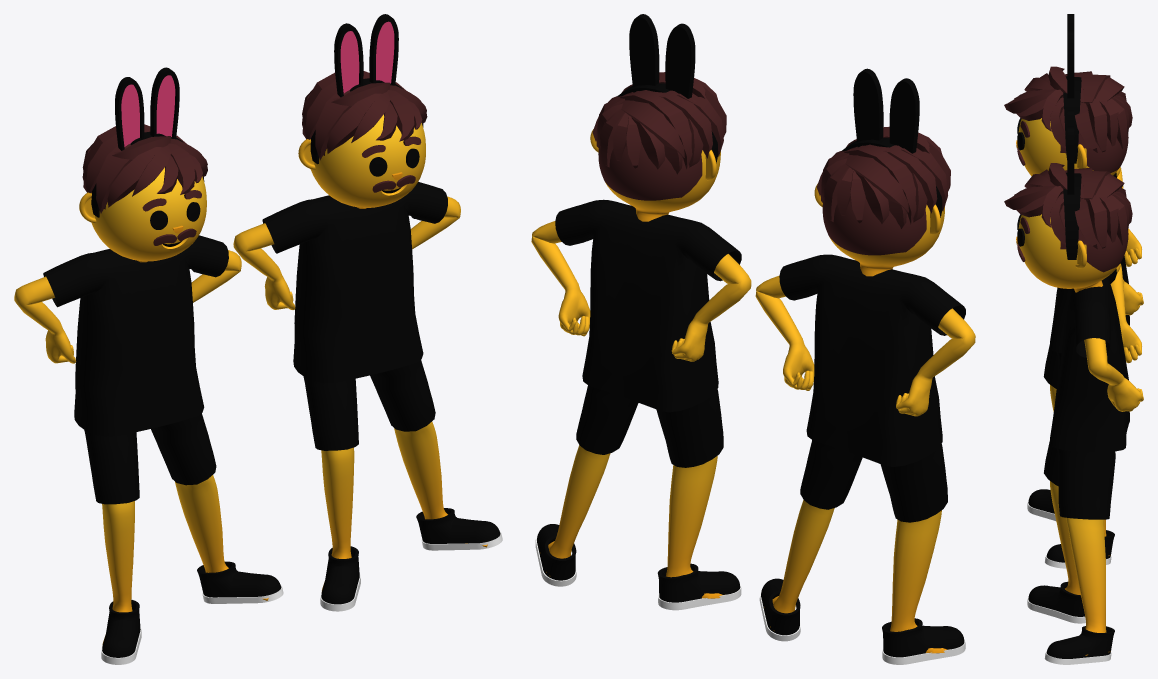
The model's file is men_with_bunny_ears.fbx.
3 views of the same model, side by side, from view 1: azimuth 30°, elevation 25°; view 2: azimuth 150°, elevation 25°; view 3: azimuth 270°, elevation 25° (orthographic). The views are drawn at different scales.
Visible parts, largest first — view 1: Circle.1299, Circle.1281, Cube.3402, Cube.3450, Roundcube.281, Roundcube.285, Cube.3410, Cube.3458, Sphere.240, Sphere.244, Sphere.245, Sphere.241; view 2: Circle.1299, Circle.1281, Cube.3402, Cube.3450, Roundcube.281, Roundcube.285, Cube.3458, Cube.3410, Sphere.245, Sphere.241, Sphere.244, Sphere.240; view 3: Circle.1299, Cube.3402, Cube.3450, Roundcube.285, Roundcube.281, Circle.1281, Sphere.244, Sphere.245, Circle.1303, Cube.3410, Cube.3458, Sphere.241 (+2 smaller).
Boxes of the visible parts, x1=… form: Circle.1299: x1=233, y1=182, x2=487, y2=590; Circle.1281: x1=14, y1=235, x2=268, y2=644; Cube.3402: x1=82, y1=124, x2=207, y2=217; Cube.3450: x1=302, y1=71, x2=427, y2=160; Roundcube.281: x1=91, y1=167, x2=206, y2=262; Roundcube.285: x1=310, y1=114, x2=425, y2=208; Cube.3410: x1=150, y1=23, x2=363, y2=138; Cube.3458: x1=115, y1=14, x2=398, y2=150; Sphere.240: x1=197, y1=561, x2=283, y2=603; Sphere.244: x1=416, y1=508, x2=502, y2=550; Sphere.245: x1=320, y1=546, x2=360, y2=611; Sphere.241: x1=101, y1=599, x2=141, y2=664; Circle.1299: x1=531, y1=199, x2=751, y2=598; Circle.1281: x1=755, y1=254, x2=975, y2=653; Cube.3402: x1=816, y1=126, x2=950, y2=228; Cube.3450: x1=592, y1=72, x2=726, y2=174; Roundcube.281: x1=822, y1=197, x2=944, y2=276; Roundcube.285: x1=598, y1=143, x2=720, y2=221; Cube.3458: x1=629, y1=14, x2=919, y2=153; Cube.3410: x1=665, y1=23, x2=883, y2=147; Sphere.245: x1=657, y1=563, x2=741, y2=610; Sphere.241: x1=882, y1=618, x2=965, y2=664; Sphere.244: x1=535, y1=524, x2=576, y2=586; Sphere.240: x1=759, y1=578, x2=800, y2=641; Circle.1299: x1=1044, y1=263, x2=1143, y2=655; Cube.3402: x1=1004, y1=66, x2=1132, y2=163; Cube.3450: x1=1004, y1=163, x2=1132, y2=249; Roundcube.285: x1=1018, y1=194, x2=1128, y2=292; Roundcube.281: x1=1018, y1=98, x2=1128, y2=176; Circle.1281: x1=1043, y1=167, x2=1143, y2=555; Sphere.244: x1=1044, y1=626, x2=1114, y2=664; Sphere.245: x1=1027, y1=581, x2=1085, y2=623; Circle.1303: x1=1063, y1=172, x2=1081, y2=259; Cube.3410: x1=1067, y1=30, x2=1074, y2=126; Cube.3458: x1=1067, y1=14, x2=1074, y2=194; Sphere.241: x1=1027, y1=489, x2=1056, y2=520.
Size of the model in its own units: 194 by 230 by 57.57.
Materials: 2 (2 with a texture image).
